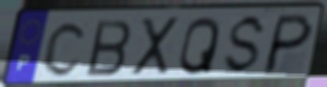B: (84, 18, 134, 78)
C: (41, 19, 90, 79)
P: (259, 11, 316, 76)
Q: (177, 15, 222, 77)
S: (220, 13, 269, 77)
X: (129, 15, 181, 79)
